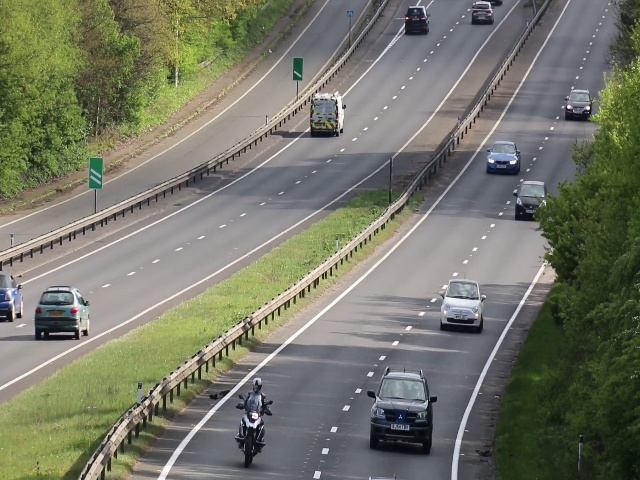car: (370, 369, 431, 452), (33, 289, 91, 338), (440, 280, 482, 331), (514, 179, 549, 221), (310, 93, 343, 135), (1, 273, 26, 319), (487, 141, 520, 173), (566, 89, 593, 119), (404, 5, 430, 36), (471, 2, 494, 25)
